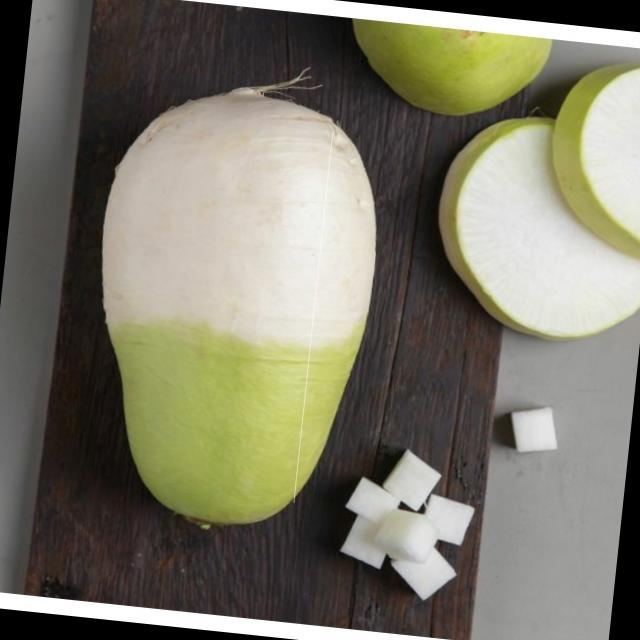radish: (136, 115, 332, 502)
